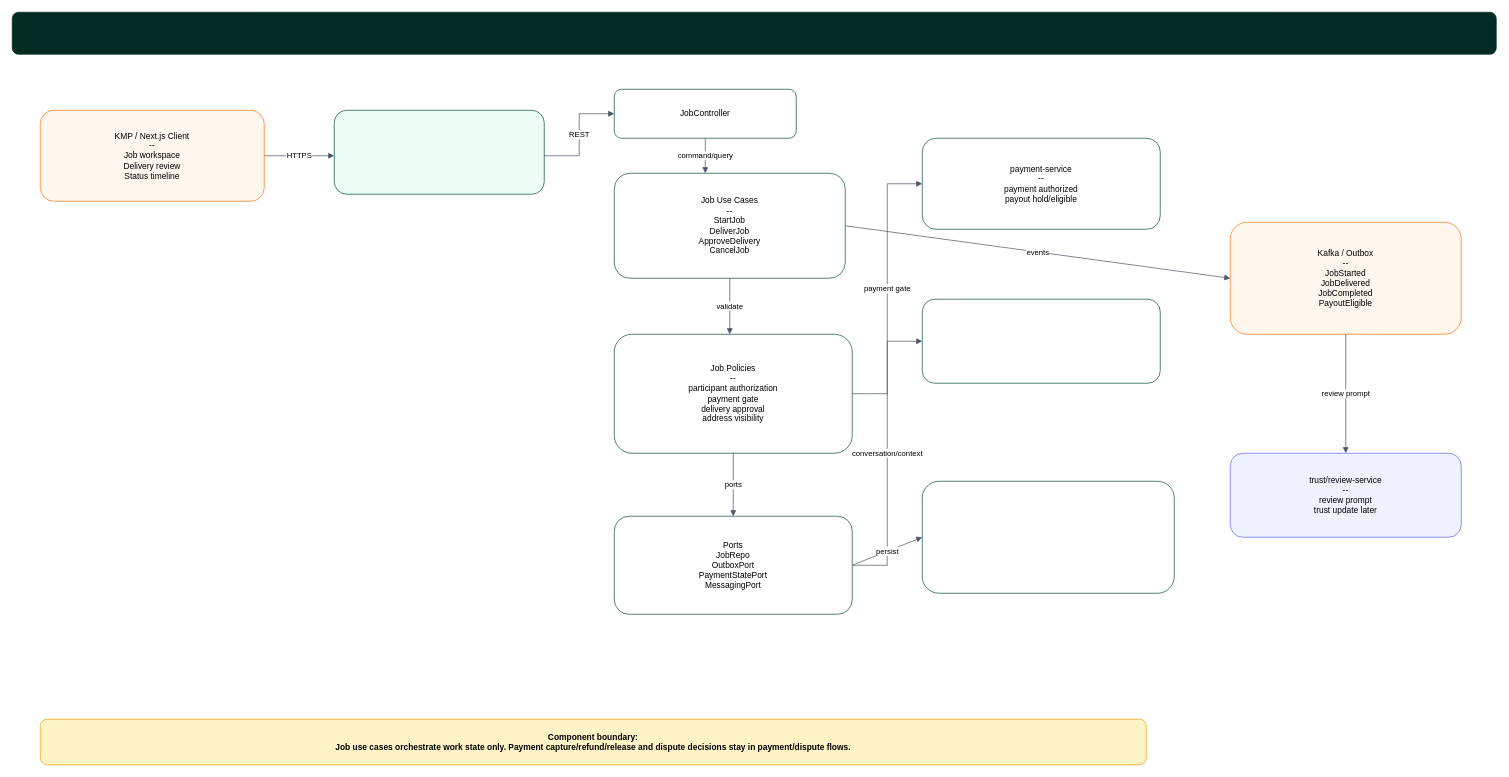
This 1509x777 diagram has some shape labels left out. The centre of each missing label's shape, as x and y in pixels:
API Gateway / App BFF -- Job API Workspace API: point (439, 152)
messaging-service -- job conversation attachments: point (1041, 341)
PostgreSQL -- job job_delivery job_update outbox_event: point (1048, 537)
Viaverse Job Lifecycle / Delivery Approval — Component Diagram: point (754, 33)
